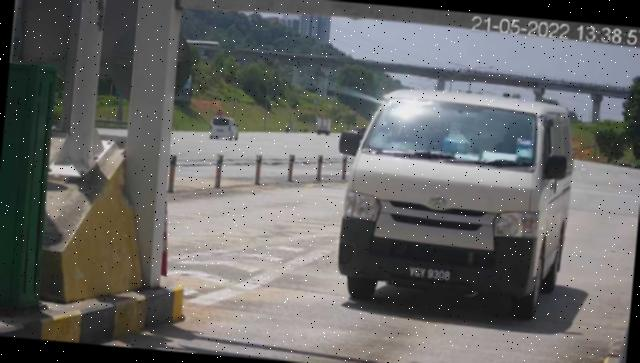License_Plate: (406, 262, 458, 289)
van: (335, 85, 578, 324)
